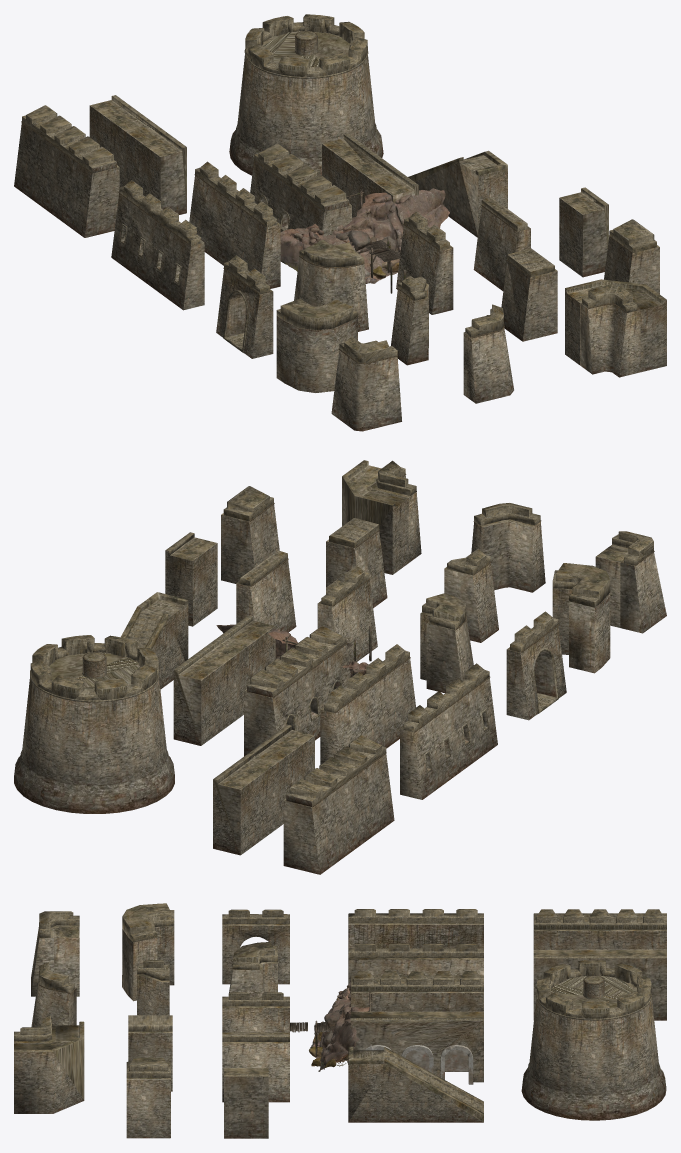
The model's file is ph-B2i8Pemt.glb.
3 renders of one model, top to bottom at view 1: azimuth 30°, elevation 25°; view 2: azimuth 150°, elevation 25°; view 3: azimuth 270°, elevation 25°, orthographic. The views are drawn at different scales.
Parts seen in each view (by area): view 1: PH_modular_fort_01, PH_namaqualand_cliff_02, PH_modular_wooden_pier, PH_namaqualand_cliff_01; view 2: PH_modular_fort_01, PH_namaqualand_cliff_02; view 3: PH_modular_fort_01, PH_namaqualand_cliff_02, PH_modular_wooden_pier.
Part boxes in pixels (x1=…): PH_modular_fort_01: x1=14, y1=14, x2=666, y2=431; PH_namaqualand_cliff_02: x1=280, y1=188, x2=449, y2=283; PH_modular_wooden_pier: x1=346, y1=190, x2=405, y2=293; PH_namaqualand_cliff_01: x1=336, y1=229, x2=399, y2=269; PH_modular_fort_01: x1=14, y1=460, x2=666, y2=874; PH_namaqualand_cliff_02: x1=216, y1=624, x2=368, y2=677; PH_modular_fort_01: x1=14, y1=903, x2=666, y2=1138; PH_namaqualand_cliff_02: x1=310, y1=980, x2=369, y2=1071; PH_modular_wooden_pier: x1=290, y1=992, x2=372, y2=1056.
Size of the model in its own units: 42.67 by 13.67 by 71.38.
53 materials, 53 textured.
